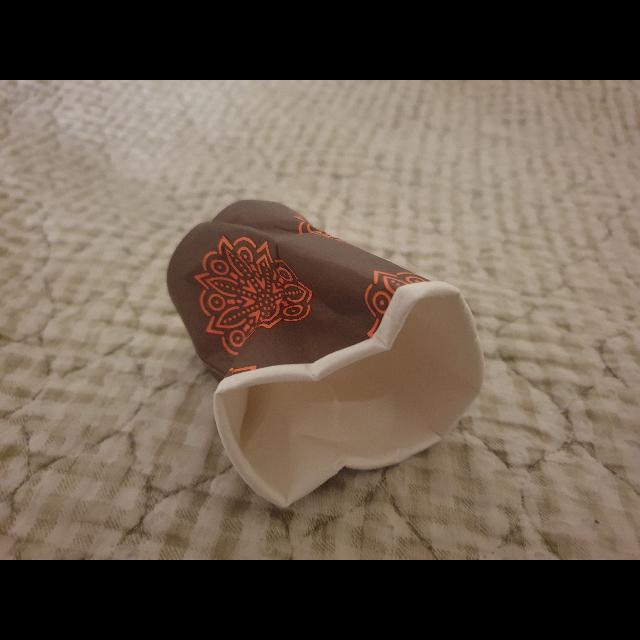trash: (162, 194, 490, 516)
